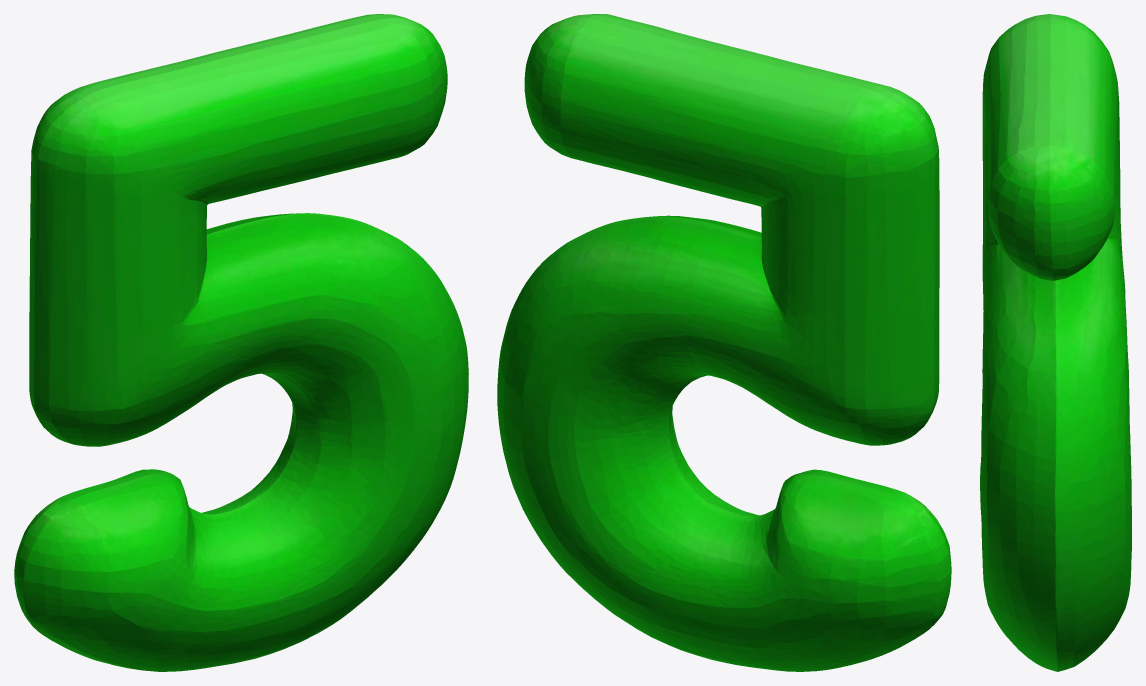
3 renders of one model, left to right at view 1: azimuth 30°, elevation 25°; view 2: azimuth 150°, elevation 25°; view 3: azimuth 270°, elevation 25°, orthographic. The views are drawn at different scales.
Parts seen in each view (by area): view 1: geometry_0; view 2: geometry_0; view 3: geometry_0.
Part boxes in pixels (x1=…): geometry_0: x1=14, y1=14, x2=468, y2=671; geometry_0: x1=497, y1=14, x2=951, y2=671; geometry_0: x1=980, y1=14, x2=1131, y2=671.
Size of the model in its own units: 0.7757 by 0.9983 by 0.244.
Materials: 1 (1 with a texture image).
